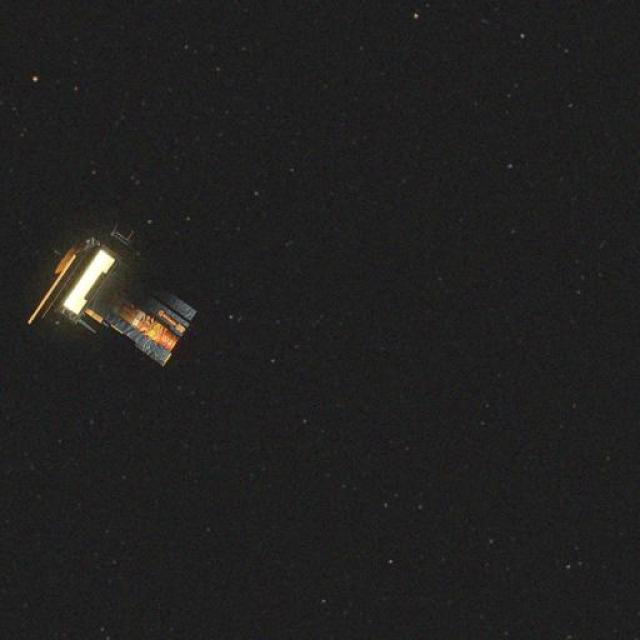soho: (13, 207, 207, 435)
